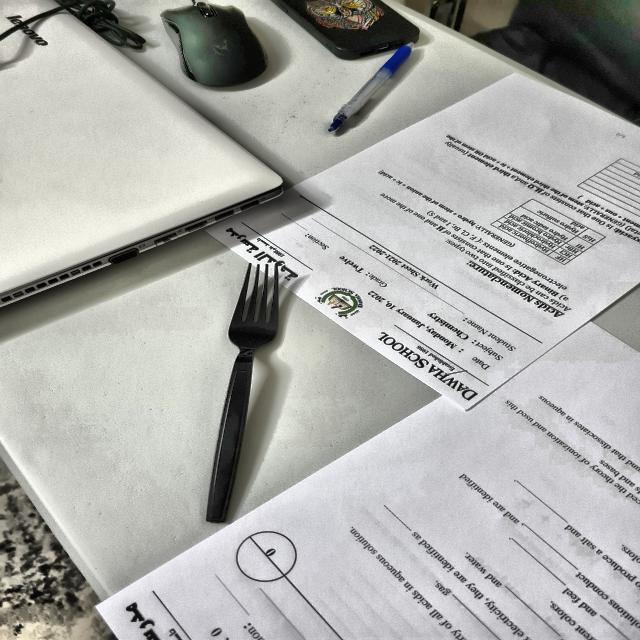plastic utensil: (197, 261, 287, 524)
